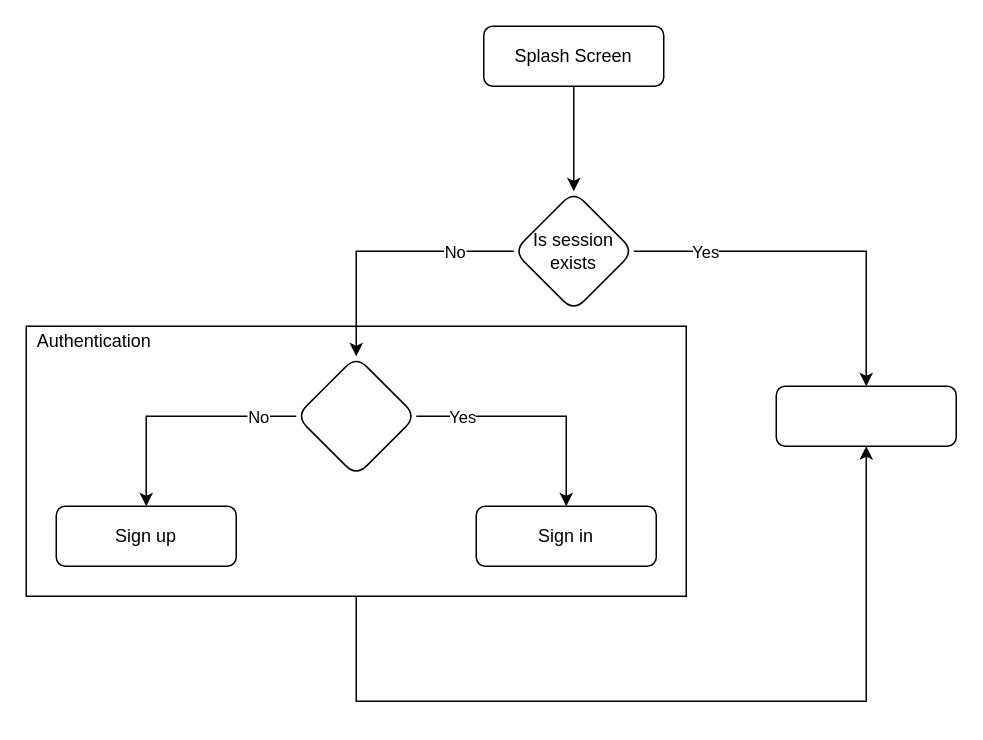
This 983x740 diagram has some shape labels left out. Each missing label, with the box of its shape:
Application: (775, 385, 956, 446)
Has an account: (295, 355, 416, 476)
